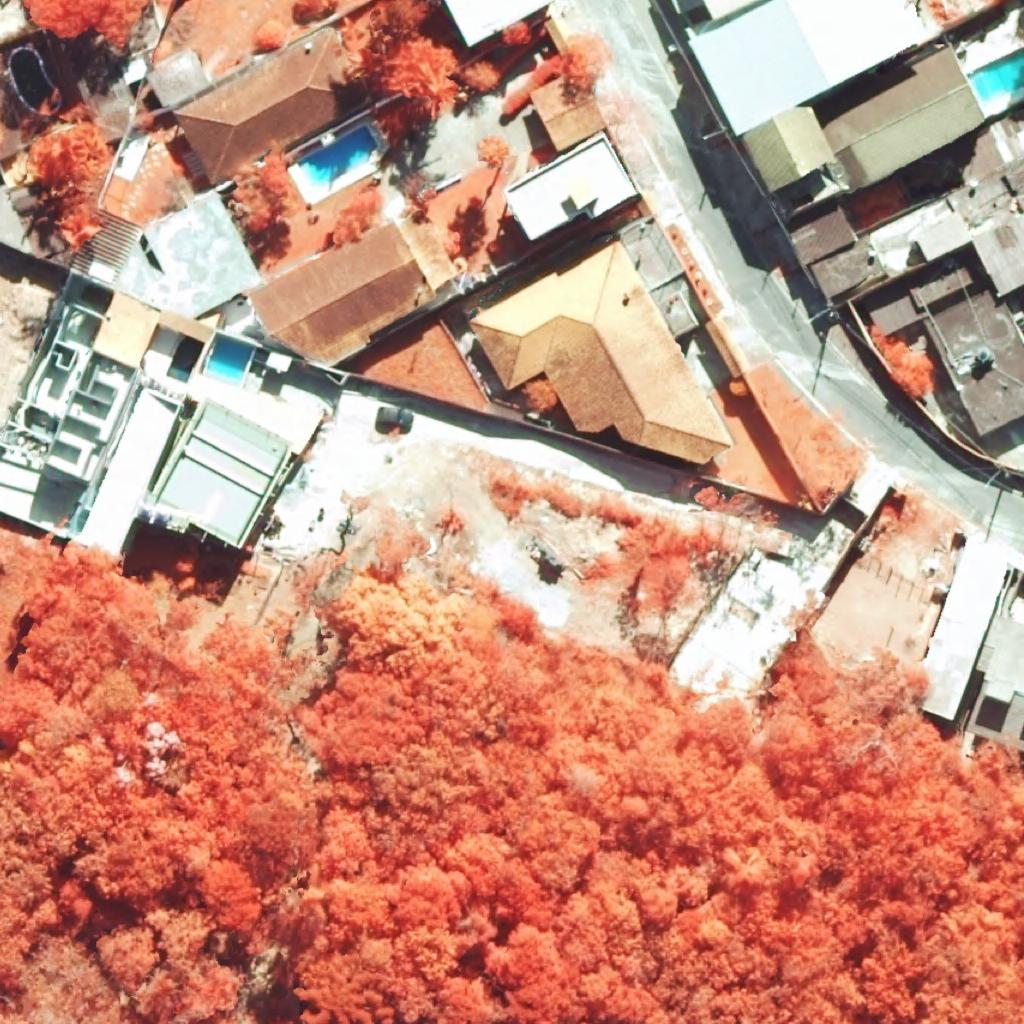pool: (299, 125, 378, 188), (967, 47, 1024, 102), (10, 49, 50, 112), (207, 337, 253, 381), (167, 336, 205, 383)
